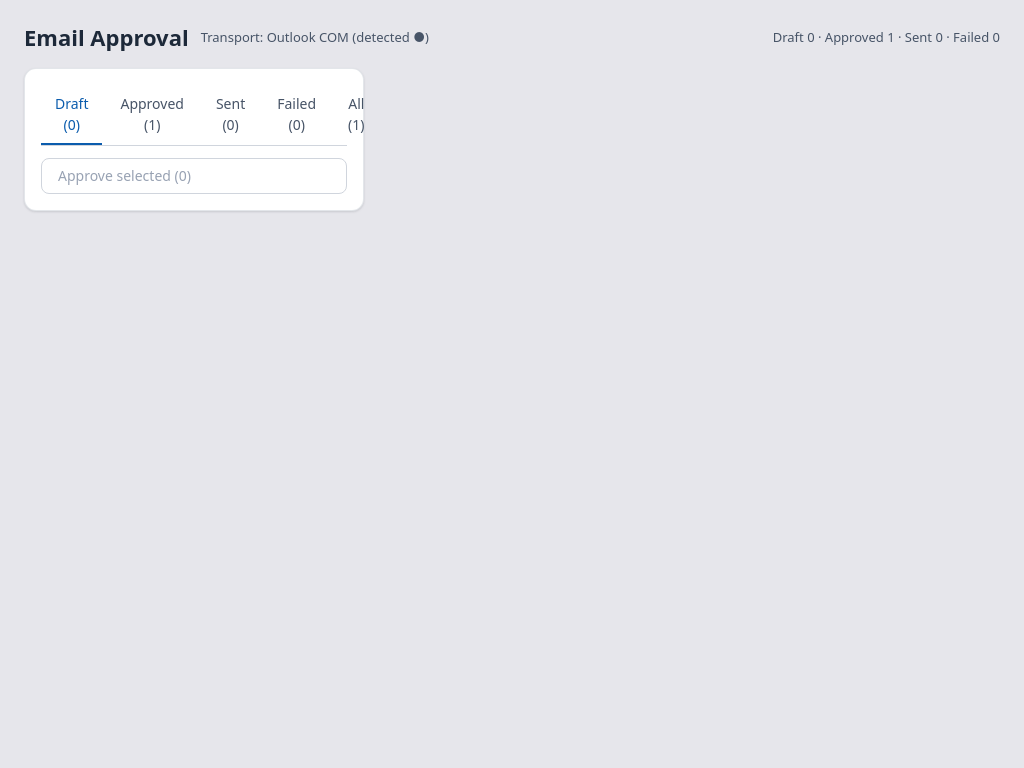
EmailApprovalPage transport handoff › shows failed follow-up
The image size is (1024, 768).
Click the tab "Approved (1)": (152, 114) x1=106 y1=84 x2=198 y2=144
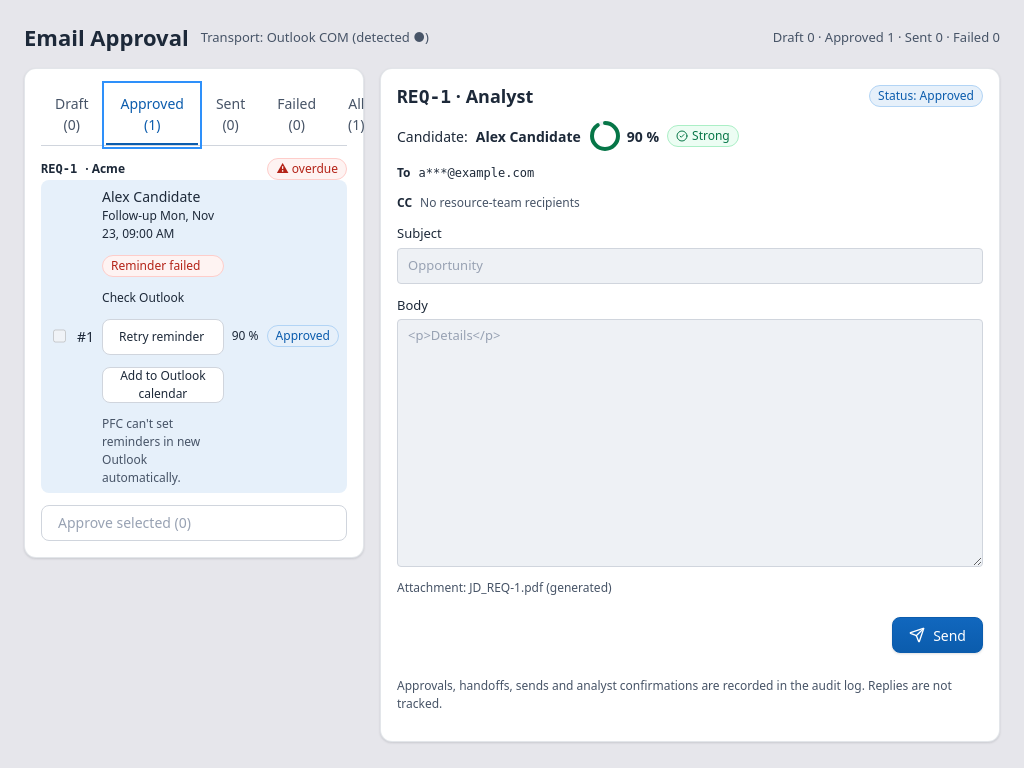
Check: the text "Reminder failed" is shown, box x1=102 y1=254 x2=224 y2=276
Check: the text "Follow-up Mon, Nov 23, 09:00 AM" is shown, box x1=102 y1=206 x2=224 y2=242
